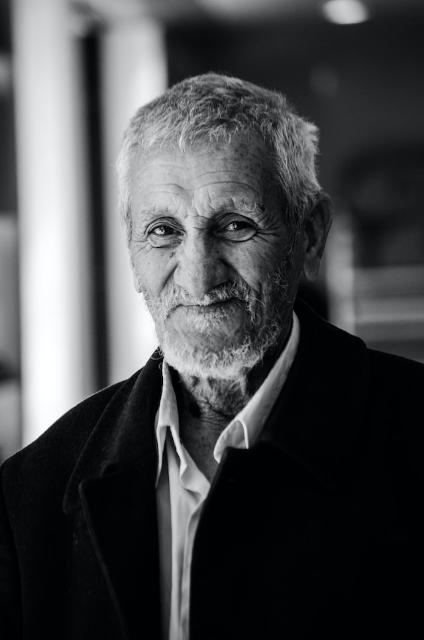crows_feet: (256, 216, 280, 244), (132, 230, 148, 252)
forehead: (200, 174, 253, 193), (154, 178, 186, 196)
frown_line: (191, 208, 207, 232)
gummy_smile: (222, 254, 258, 296), (156, 263, 178, 297)
